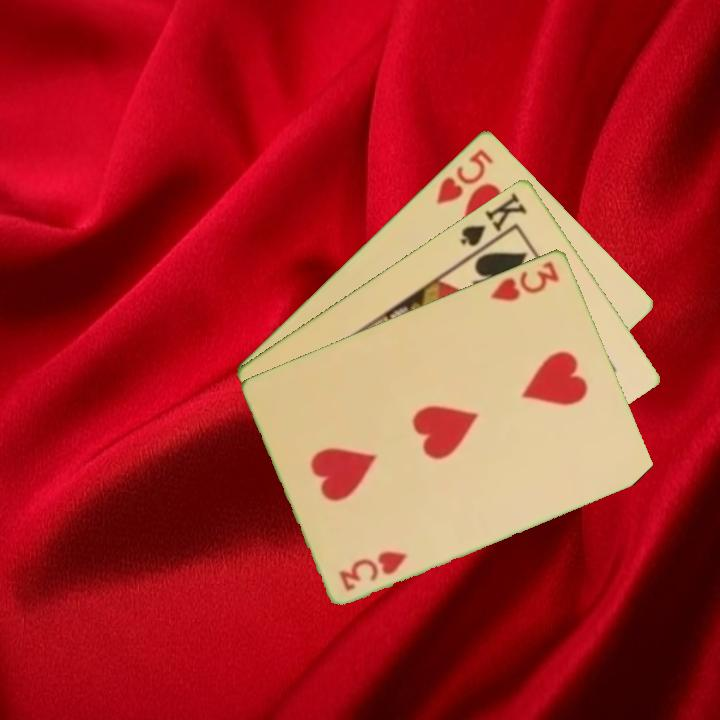3h: (487, 257, 563, 304), (335, 546, 411, 593)
5h: (432, 144, 497, 207)
Ks: (456, 188, 531, 258)
